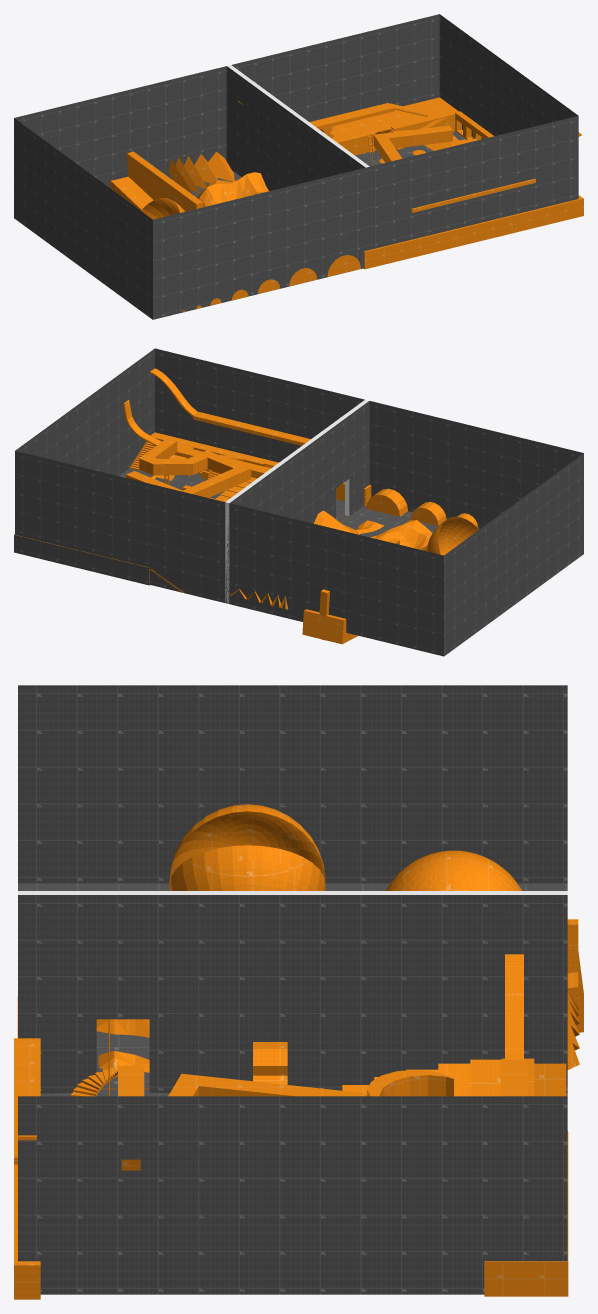
The model's file is levelTest.glb.
3 views of the same model, one above another, from view 1: azimuth 30°, elevation 25°; view 2: azimuth 150°, elevation 25°; view 3: azimuth 270°, elevation 25° (orthographic). The views are drawn at different scales.
Parts seen in each view (by area): view 1: level; view 2: level; view 3: level.
Part boxes in pixels (box(x1,y1,x2,y2)): level: box(14, 14, 583, 319); level: box(14, 348, 583, 656); level: box(14, 685, 583, 1299).
Bounding box in the file's own units: 83.87 × 23.32 × 48.66.
3 materials, 3 textured.
